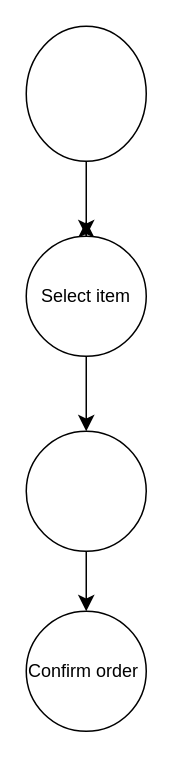
Image size: 173x758. Some labels were removed from this diagram. Each missing label, with the centre of its shape:
"Open app" goes at point (85, 93).
"Pay amount" goes at point (85, 490).
